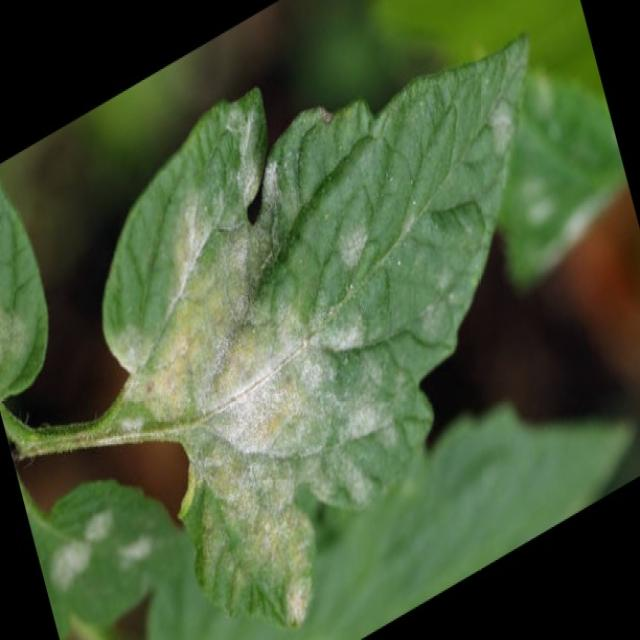Powdery Mildew: (153, 170, 367, 540)
